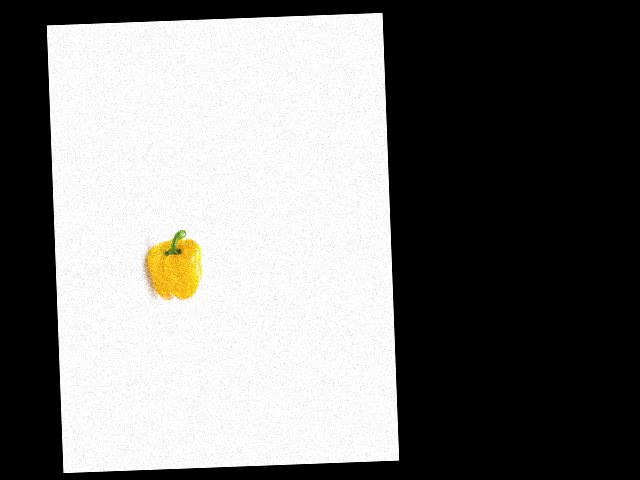bell_pepper: (146, 223, 206, 303)
